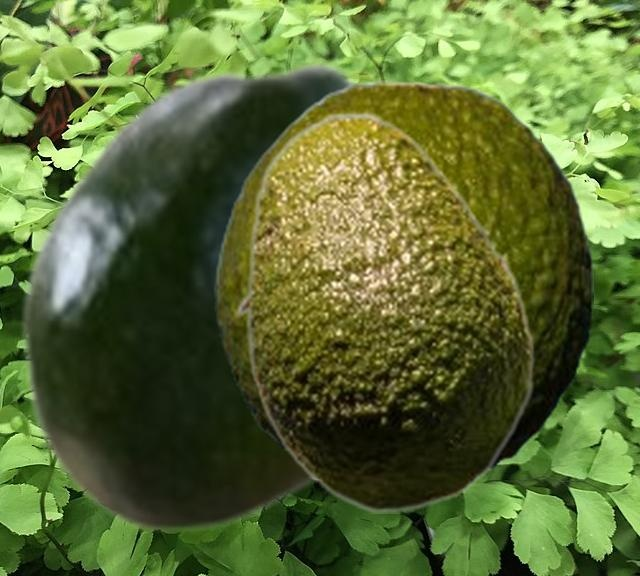avocado: (18, 58, 365, 534), (214, 80, 592, 478), (234, 111, 535, 512)
